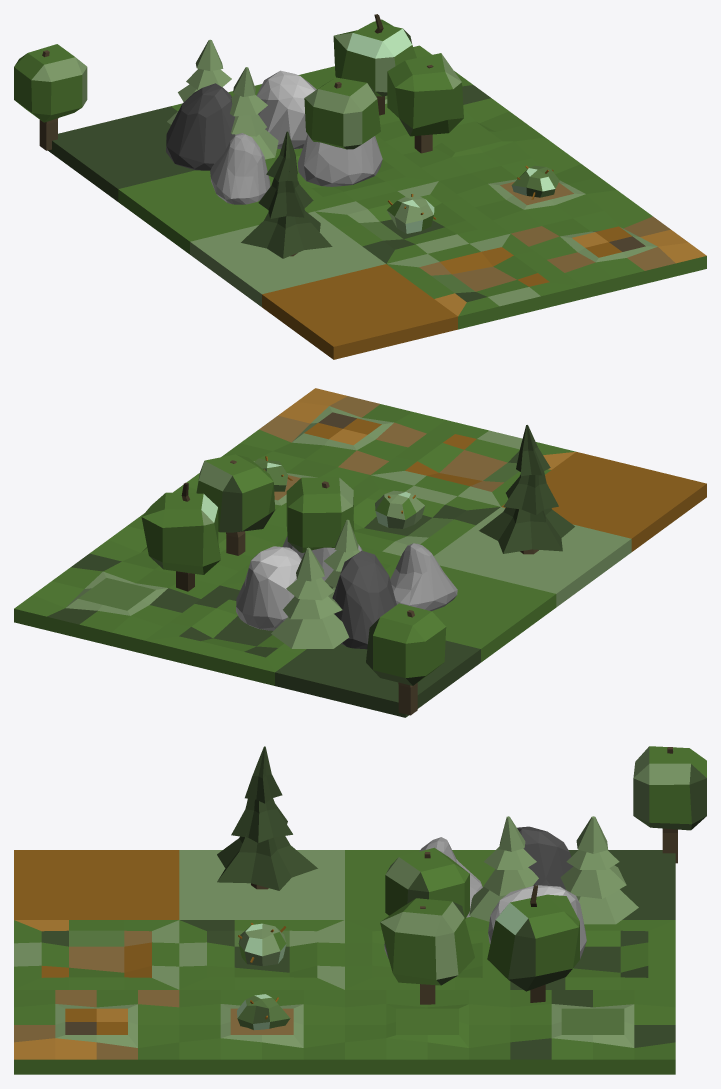
The model's file is ForestCells.fbx.
The picture shows the model from 3 angles, top to bottom: view 1: azimuth 30°, elevation 25°; view 2: azimuth 150°, elevation 25°; view 3: azimuth 270°, elevation 25°; orthographic projection. The views are drawn at different scales.
Visible parts, largest first — view 1: Ground.011, Ground.012, Ground.010, Ground.006, Ground.004, Ground.005, Ground.003, Ground.008, Ground.002, Tree.003, Tree.002, Tree.007 (+12 smaller); view 2: Ground.009, Ground.012, Ground.011, Ground.010, Ground.005, Ground.007, Ground.008, Ground.002, Ground.004, Tree.004, Tree.002, Tree.007 (+12 smaller); view 3: Ground.012, Ground.009, Ground.003, Ground.006, Ground.010, Ground.011, Ground.004, Ground.005, Tree.004, Ground.007, Tree.003, Tree.007 (+12 smaller).
Part boxes in pixels (x1,y1,x2,y2): Ground.011: [262, 264, 457, 359]; Ground.012: [511, 203, 706, 298]; Ground.010: [387, 233, 582, 329]; Ground.006: [439, 150, 634, 233]; Ground.004: [315, 181, 510, 263]; Ground.005: [190, 211, 385, 306]; Ground.003: [376, 98, 562, 180]; Ground.008: [48, 106, 194, 201]; Ground.002: [118, 170, 313, 254]; Tree.003: [387, 53, 463, 153]; Tree.002: [14, 44, 87, 150]; Tree.007: [241, 131, 332, 258]; Ground.009: [14, 553, 219, 653]; Ground.012: [240, 388, 445, 474]; Ground.011: [501, 452, 706, 551]; Ground.010: [371, 420, 575, 506]; Ground.005: [434, 507, 631, 607]; Ground.007: [144, 585, 306, 685]; Ground.008: [275, 640, 480, 717]; Ground.002: [432, 565, 556, 662]; Ground.004: [352, 475, 500, 555]; Tree.004: [141, 482, 220, 591]; Tree.002: [366, 603, 446, 715]; Tree.007: [479, 425, 574, 554]; Ground.012: [14, 990, 179, 1074]; Ground.009: [510, 990, 675, 1074]; Ground.003: [345, 990, 510, 1074]; Ground.006: [179, 990, 344, 1074]; Ground.010: [14, 920, 179, 989]; Ground.011: [14, 850, 179, 919]; Ground.004: [179, 920, 344, 989]; Ground.005: [179, 850, 344, 919]; Tree.004: [487, 885, 579, 1002]; Ground.007: [510, 920, 675, 989]; Tree.003: [380, 898, 474, 1004]; Tree.007: [217, 746, 317, 890].
Bounding box in the file's own units: 9.65 × 3.07 × 12.57.
